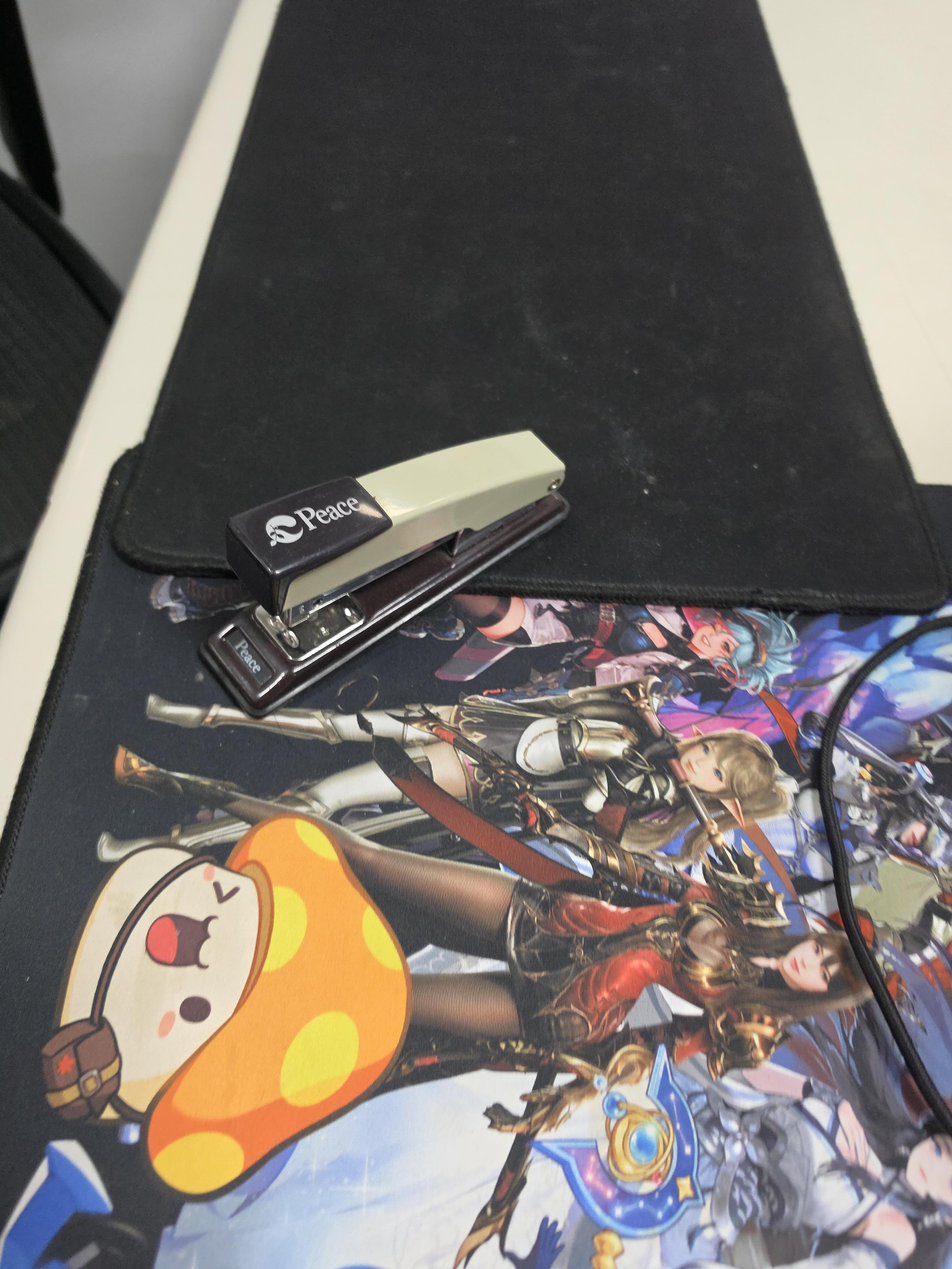stapler: (200, 429, 571, 716)
